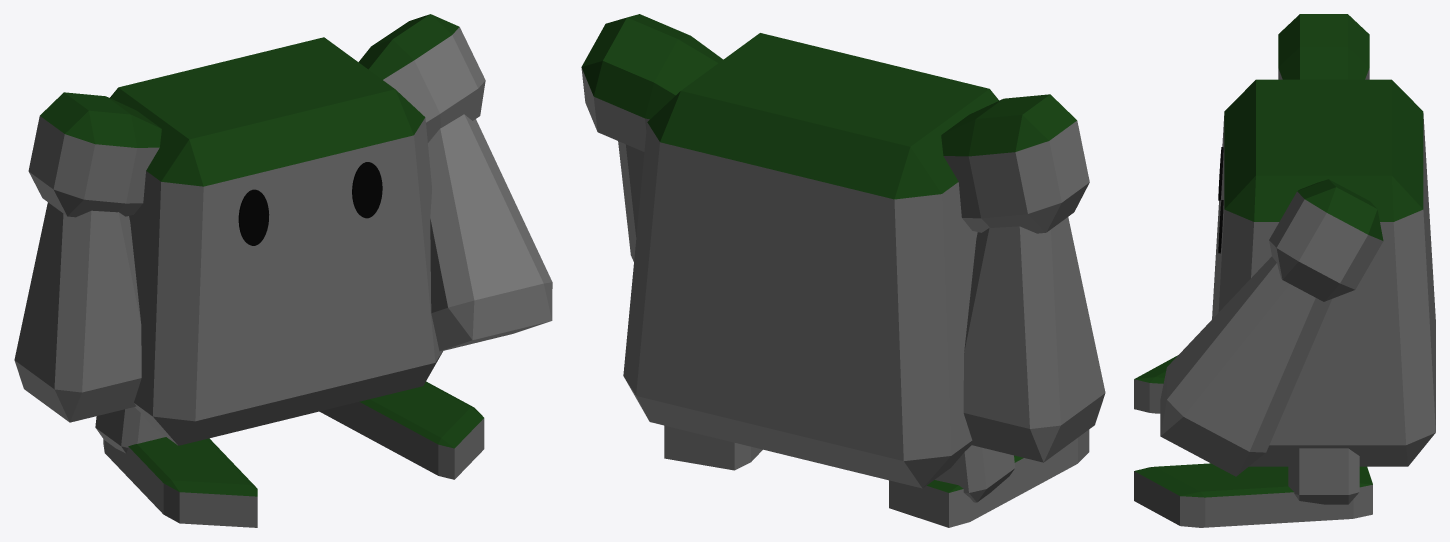
File: golemArm1.fbx
3 renders of one model, left to right at view 1: azimuth 30°, elevation 25°; view 2: azimuth 150°, elevation 25°; view 3: azimuth 270°, elevation 25°, orthographic. The views are drawn at different scales.
Parts seen in each view (by area): view 1: Cube.047; view 2: Cube.047; view 3: Cube.047.
Boxes of the visible parts, x1=… form: Cube.047: x1=14, y1=14, x2=552, y2=527; Cube.047: x1=581, y1=14, x2=1105, y2=527; Cube.047: x1=1134, y1=14, x2=1435, y2=527.
Bounding box in the file's own units: 436 × 354 × 269.
